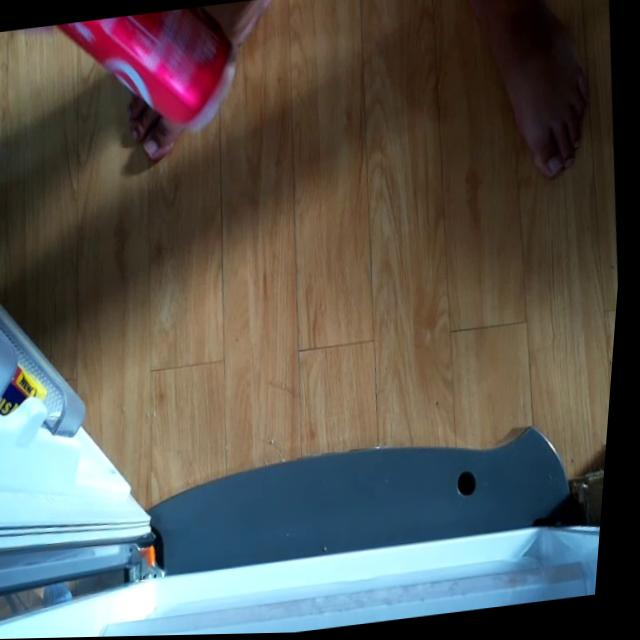coke: (33, 4, 239, 153)
